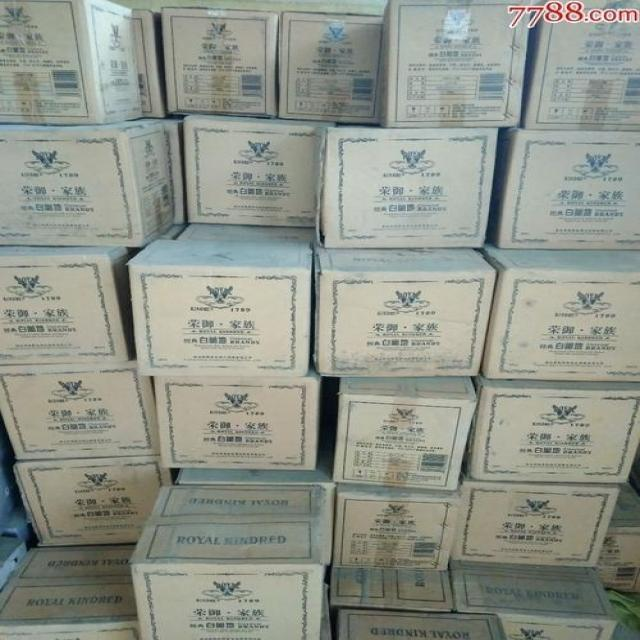box: (125, 217, 316, 378), (130, 484, 327, 638), (313, 226, 495, 377), (475, 231, 639, 382), (0, 115, 176, 249), (320, 125, 500, 249), (381, 0, 531, 125), (465, 377, 639, 482), (3, 0, 148, 125), (490, 128, 638, 250), (159, 364, 320, 470), (0, 357, 159, 463), (2, 247, 143, 364), (334, 375, 479, 486), (451, 477, 623, 568), (185, 114, 327, 224), (177, 466, 334, 564), (522, 1, 639, 129), (15, 455, 179, 546), (451, 553, 619, 639), (2, 543, 142, 639), (160, 7, 279, 118), (282, 12, 384, 122), (338, 482, 461, 571), (329, 563, 454, 614), (335, 610, 509, 639), (597, 475, 639, 591), (2, 416, 37, 550), (136, 9, 171, 118), (162, 119, 184, 219)
